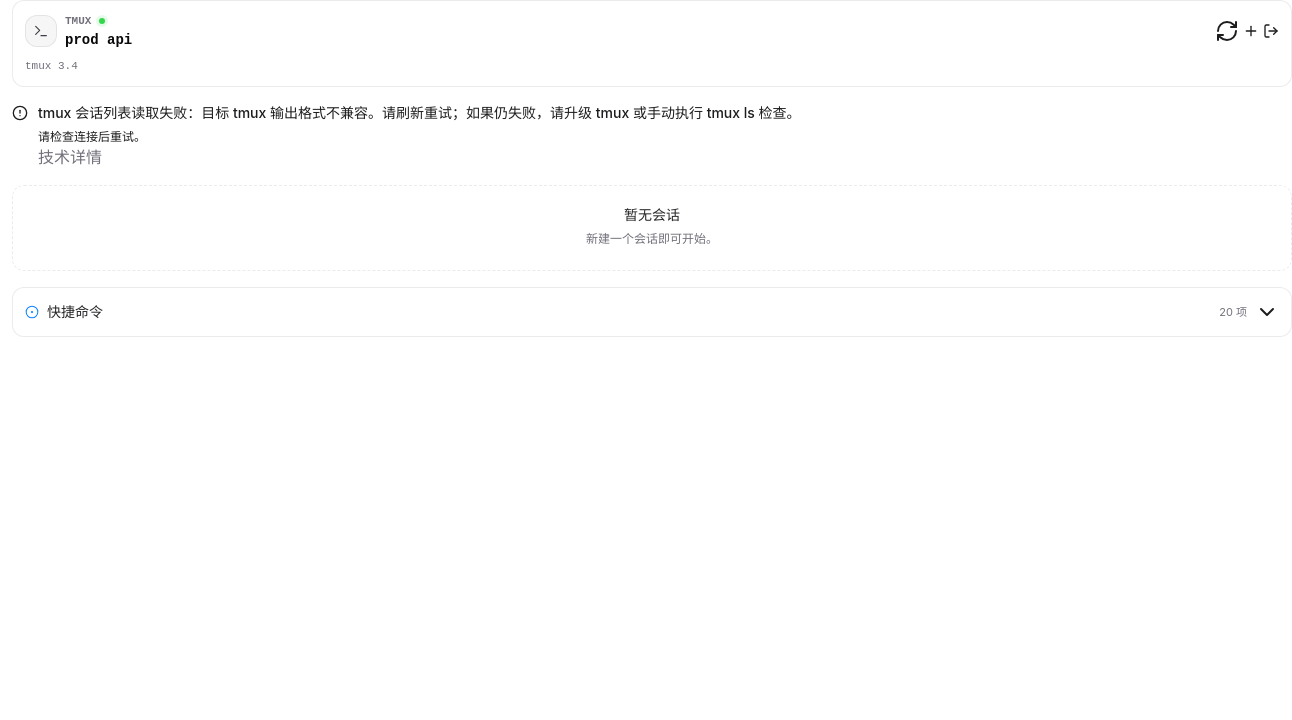
Scenario: TmuxToolContent › shows an actionable compatibility hint when tmux session parsing fails
Expected: the text "tmux 会话列表读取失败：目标 tmux 输出格式不兼容" is shown, left=38, top=104, right=801, bottom=121
Expected: the text "参数不合法: tmux session name 为空" is not shown
Click the heading "技术详情": coordinates (70, 157) left=38, top=145, right=102, bottom=169
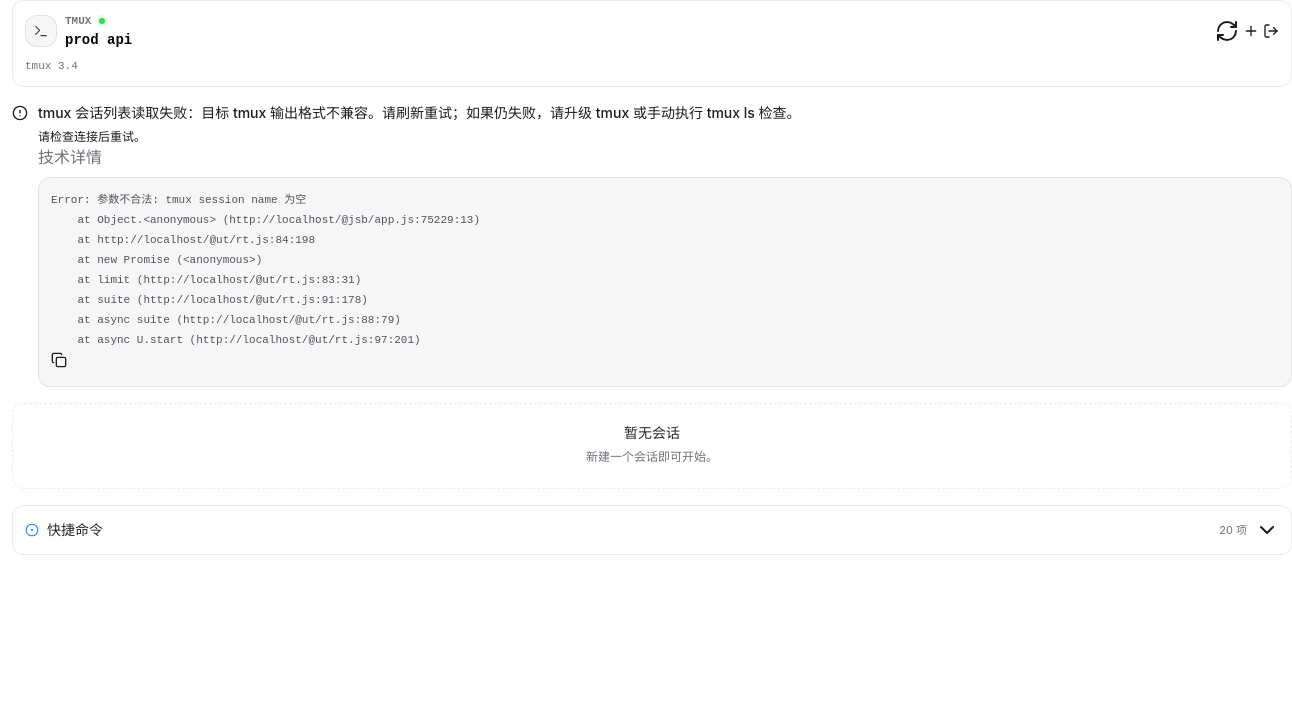
Expected: the text "参数不合法: tmux session name 为空" is shown, left=51, top=194, right=480, bottom=346
